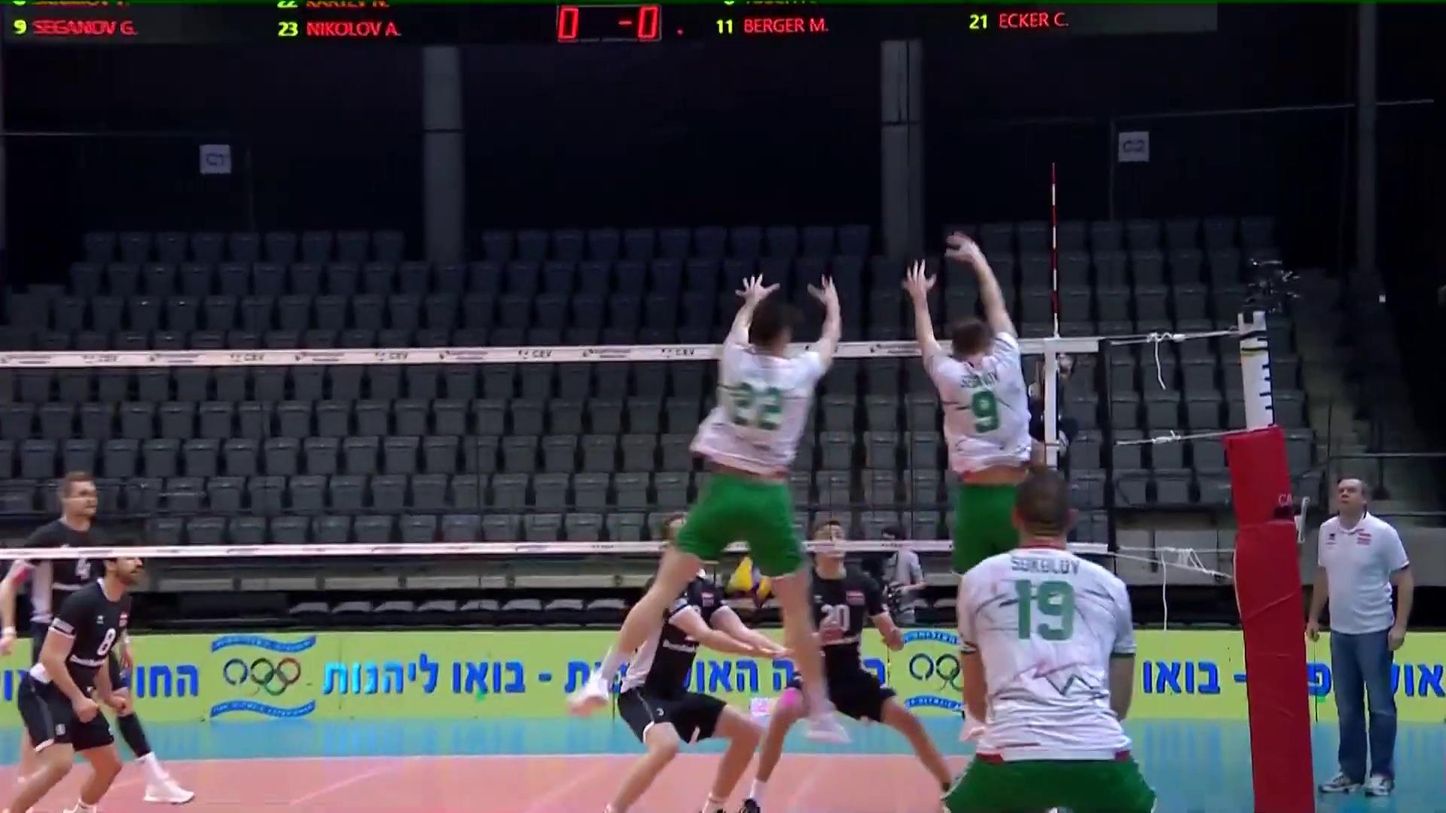ball: (714, 554, 781, 607)
